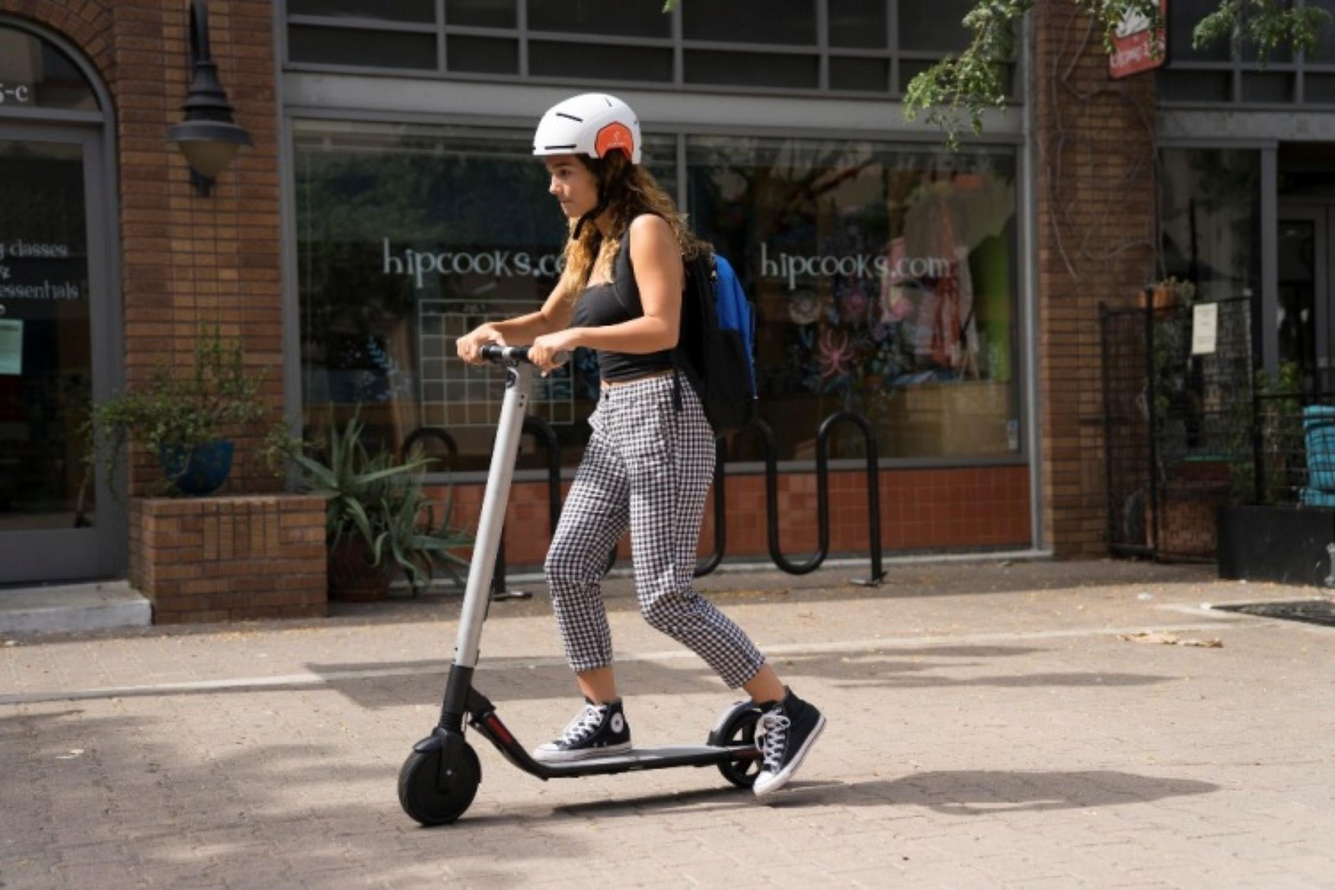helmet: (501, 81, 678, 248)
human: (463, 95, 820, 793)
kickboard: (398, 691, 826, 833)
